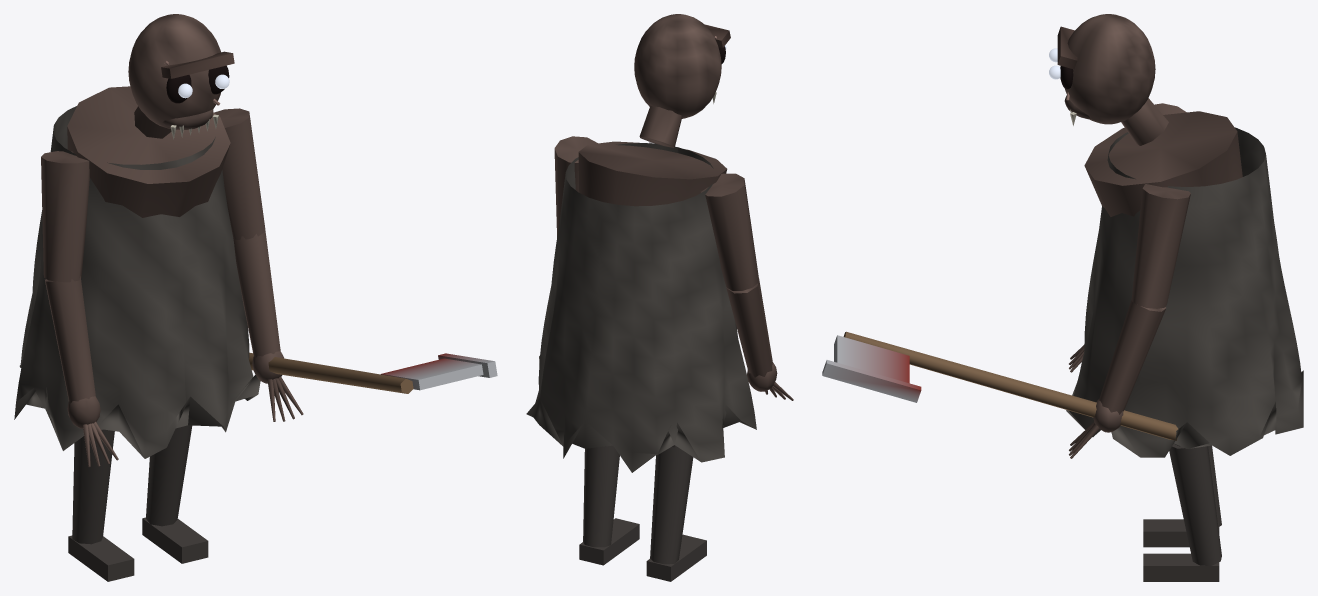
The model's file is axe.glb.
3 renders of one model, left to right at view 1: azimuth 30°, elevation 25°; view 2: azimuth 150°, elevation 25°; view 3: azimuth 270°, elevation 25°, orthographic. The views are drawn at different scales.
Parts seen in each view (by area): view 1: Torso, ArmR, ArmL, Skull, LegL, LegR; view 2: Torso, Skull, ArmL, LegL, LegR, ArmR; view 3: Torso, ArmR, Skull, LegR, LegL.
Part boxes in pixels (x1,y1,x2,y2): Torso: (14, 86, 260, 458); ArmR: (214, 108, 497, 421); ArmL: (41, 151, 118, 467); Skull: (128, 14, 234, 139); LegL: (68, 429, 134, 581); LegR: (142, 425, 208, 563); Torso: (526, 141, 756, 472); Skull: (634, 14, 730, 147); ArmL: (700, 173, 793, 400); LegL: (646, 445, 706, 581); LegR: (579, 445, 639, 565); ArmR: (554, 136, 715, 237); Torso: (1066, 111, 1303, 457); ArmR: (822, 184, 1190, 458); Skull: (1057, 14, 1168, 145); LegR: (1143, 443, 1221, 581); LegL: (1143, 445, 1221, 547).
Bounding box in the file's own units: 1.06 × 2.05 × 1.65.
